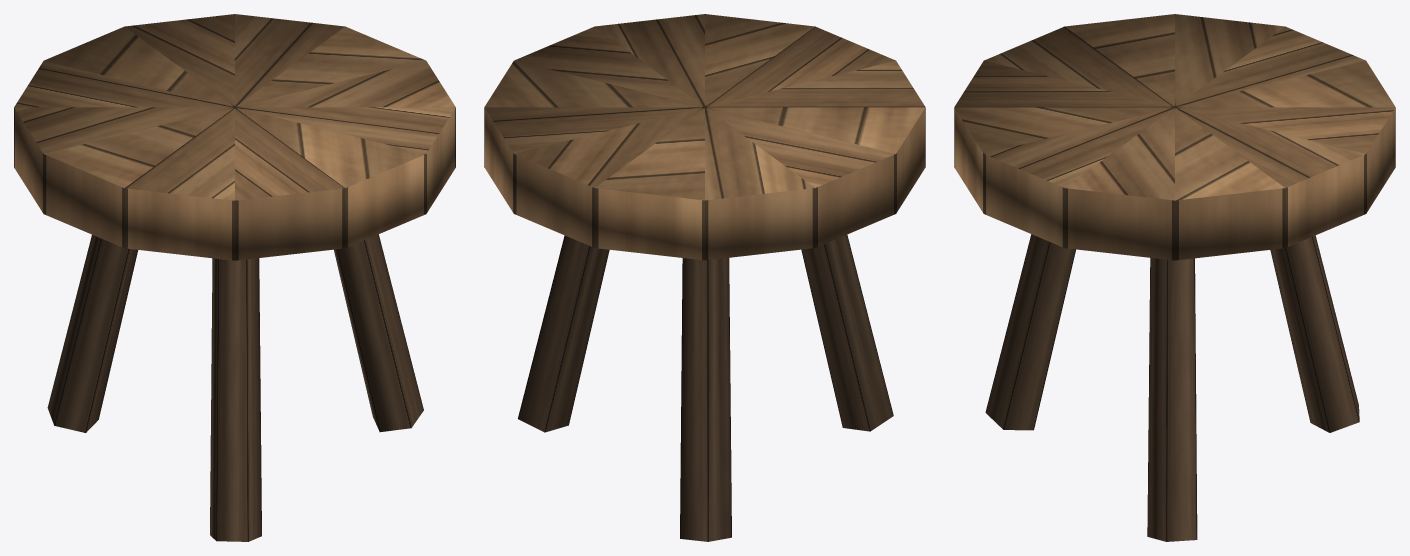
File: Stool_Low_1.gltf
3 renders of one model, left to right at view 1: azimuth 30°, elevation 25°; view 2: azimuth 150°, elevation 25°; view 3: azimuth 270°, elevation 25°, orthographic.
Visible parts, largest first — view 1: Stool_Low_1; view 2: Stool_Low_1; view 3: Stool_Low_1.
Boxes of the visible parts, x1,y1,x2,y2 form: Stool_Low_1: (14,14,455,541); Stool_Low_1: (484,14,925,541); Stool_Low_1: (954,14,1395,541).
Size of the model in its own units: 0.4 by 0.3558 by 0.4.
2 materials, 2 textured.
